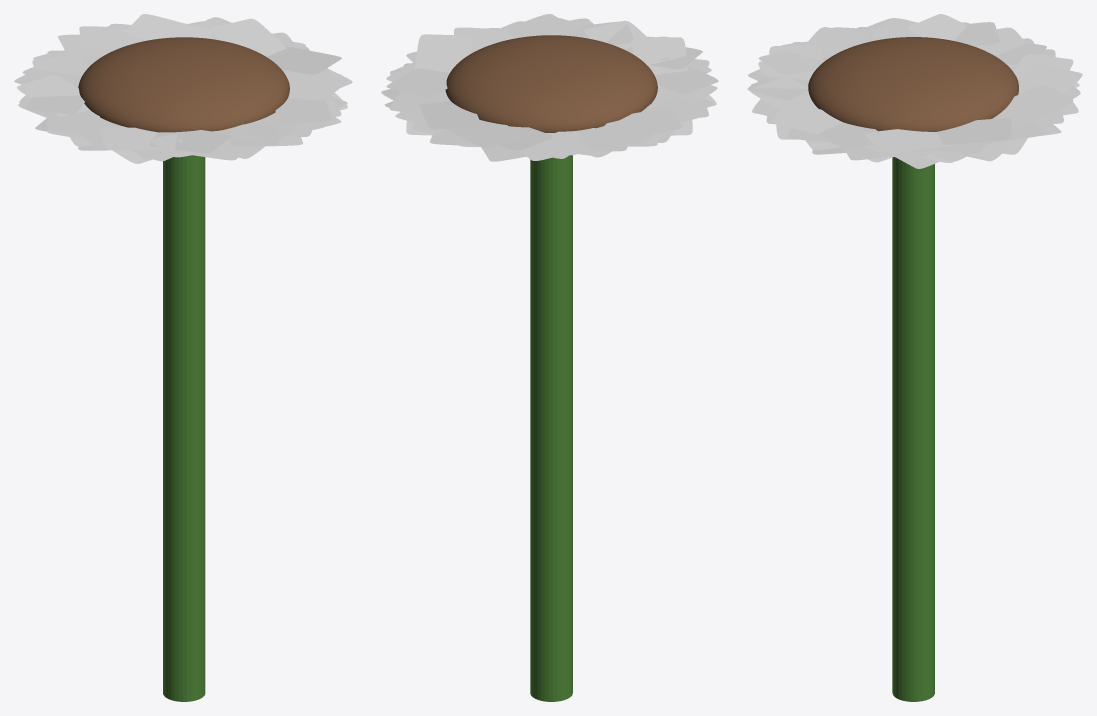
3 renders of one model, left to right at view 1: azimuth 30°, elevation 25°; view 2: azimuth 150°, elevation 25°; view 3: azimuth 270°, elevation 25°, orthographic.
Parts seen in each view (by area): view 1: Cylinder, Sphere, Plane, Plane.024, Plane.003, Plane.020, Plane.015, Plane.002, Plane.017, Plane.027, Plane.005, Plane.013 (+7 smaller); view 2: Cylinder, Sphere, Plane.002, Plane.017, Plane.011, Plane.005, Plane.003, Plane, Plane.027, Plane.020, Plane.009, Plane.012 (+9 smaller); view 3: Cylinder, Sphere, Plane.003, Plane.005, Plane, Plane.002, Plane.027, Plane.020, Plane.017, Plane.011, Plane.025, Plane.006 (+11 smaller).
Boxes of the visible parts, x1,y1,x2,y2 form: Cylinder: (163, 155, 205, 701); Sphere: (78, 37, 289, 132); Plane: (211, 18, 347, 110); Plane.024: (238, 72, 347, 158); Plane.003: (125, 14, 212, 40); Plane.020: (100, 127, 302, 150); Plane.015: (17, 75, 152, 163); Plane.002: (266, 46, 341, 74); Plane.017: (35, 118, 231, 153); Plane.027: (275, 47, 330, 123); Plane.005: (79, 26, 148, 49); Plane.013: (32, 56, 92, 146); Cylinder: (530, 155, 572, 701); Sphere: (445, 35, 657, 132); Plane.002: (406, 34, 471, 135); Plane.017: (632, 37, 692, 135); Plane.011: (481, 108, 682, 161); Plane.005: (381, 88, 526, 148); Plane.003: (403, 63, 480, 129); Plane: (386, 68, 449, 97); Plane.027: (395, 14, 577, 70); Plane.020: (654, 65, 718, 93); Plane.009: (430, 128, 629, 151); Plane.012: (519, 97, 704, 160); Cylinder: (892, 157, 934, 701); Sphere: (808, 37, 1018, 131); Plane.003: (895, 85, 1073, 168); Plane.005: (967, 64, 1082, 161); Plane: (812, 118, 1011, 154); Plane.002: (864, 124, 1061, 152); Plane.027: (770, 103, 953, 162); Plane.020: (752, 27, 867, 114); Plane.017: (758, 50, 833, 74); Plane.011: (907, 14, 1079, 87); Plane.025: (750, 77, 893, 162); Plane.006: (1002, 54, 1073, 154).
Size of the model in its own units: 0.6307 by 1.31 by 0.6298.
